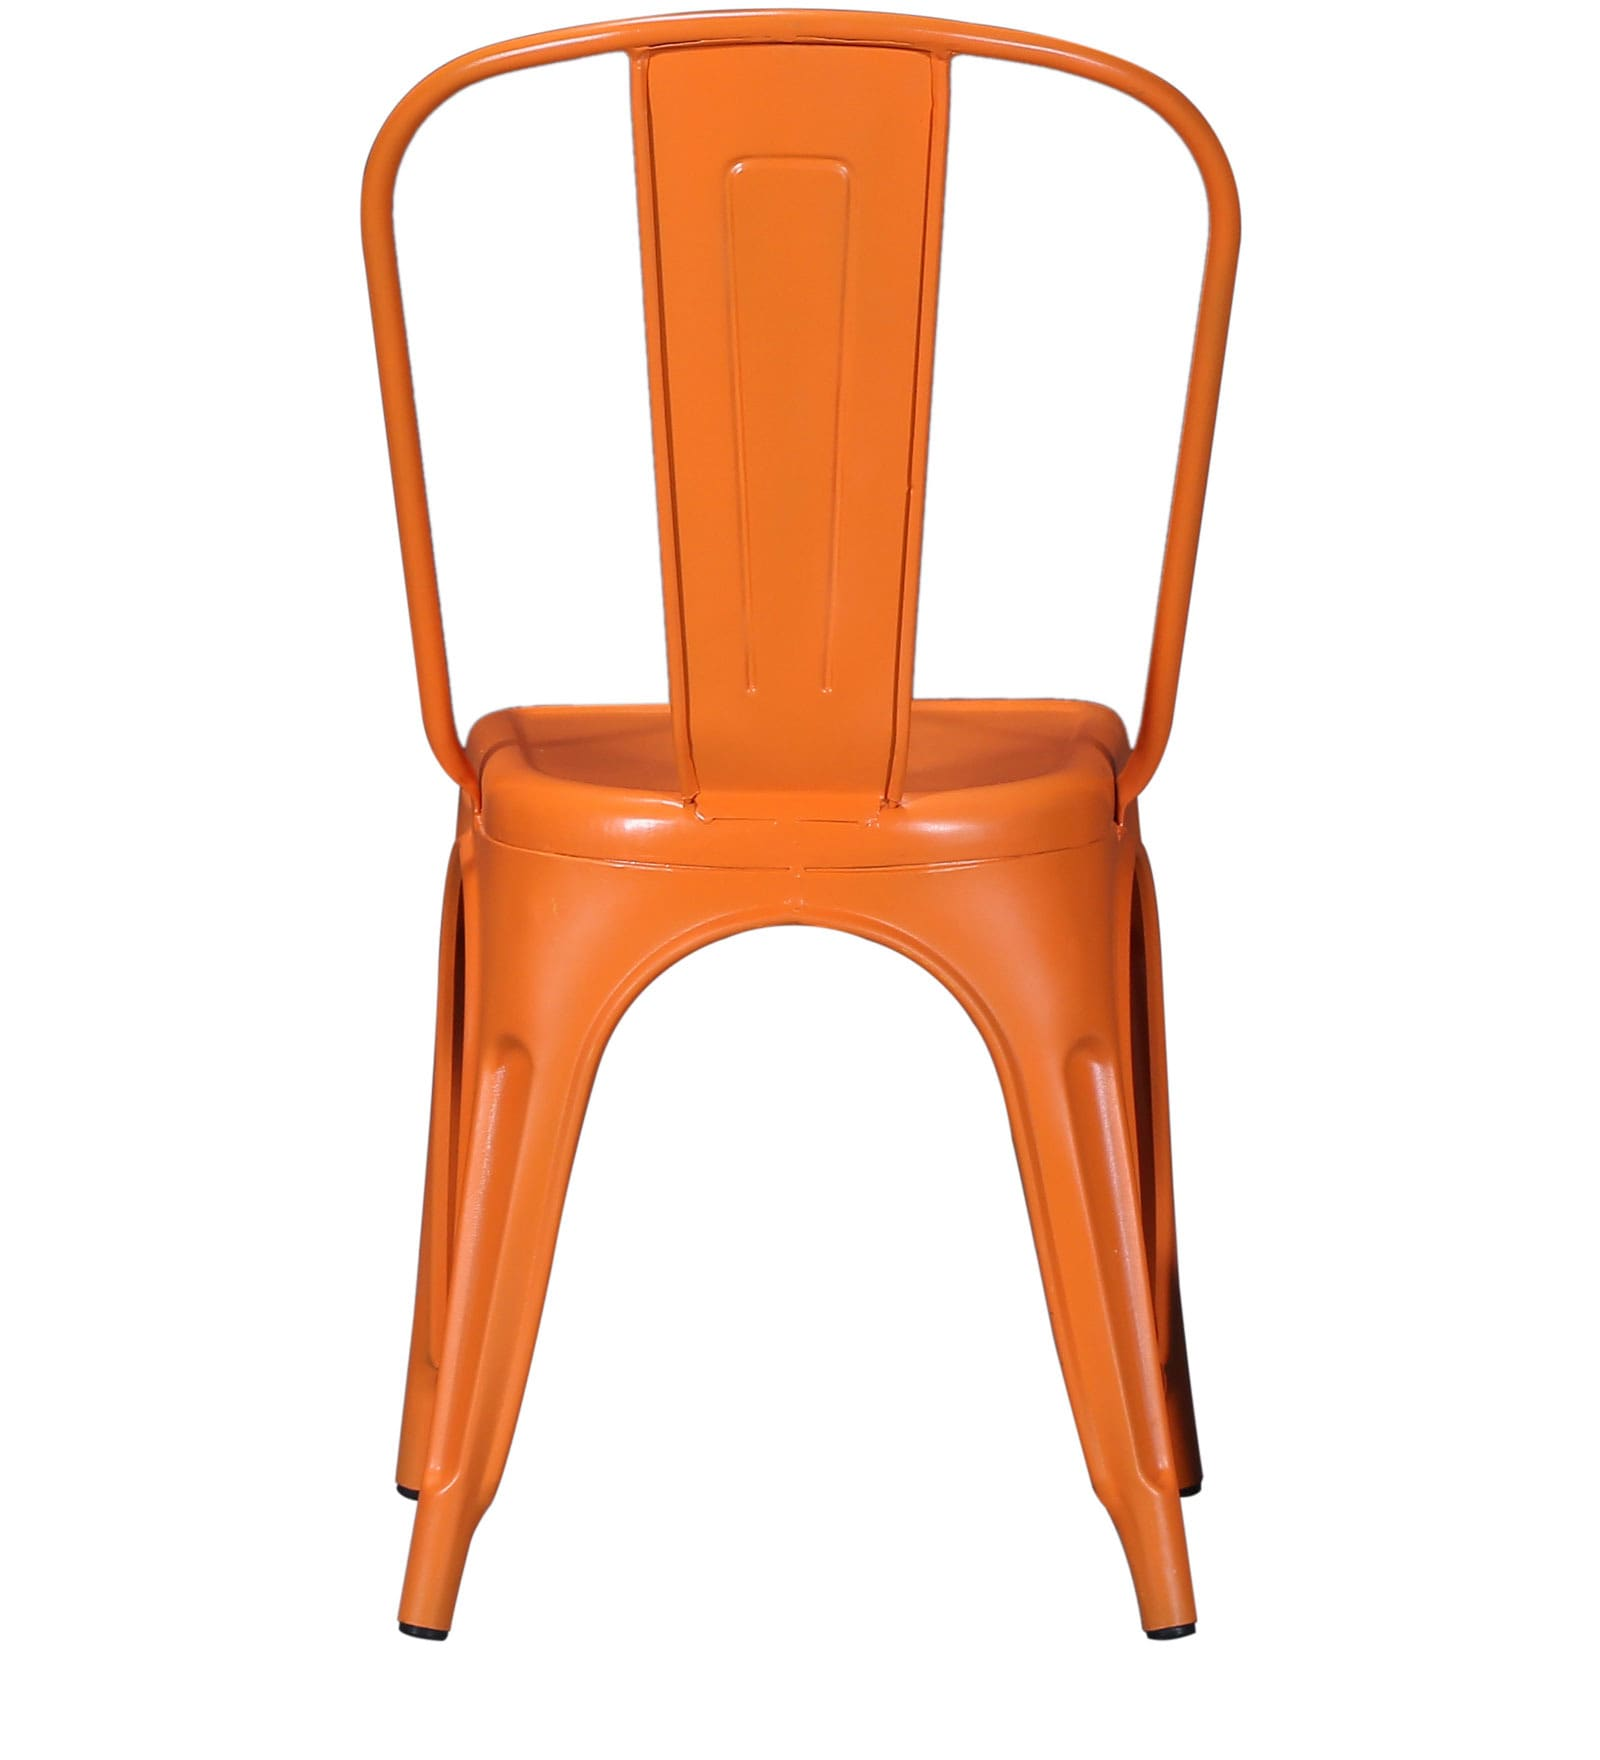Ekati Metal Chair in Orange Color with Eyelet by Bohemiana: (270, 8, 1306, 1689)
